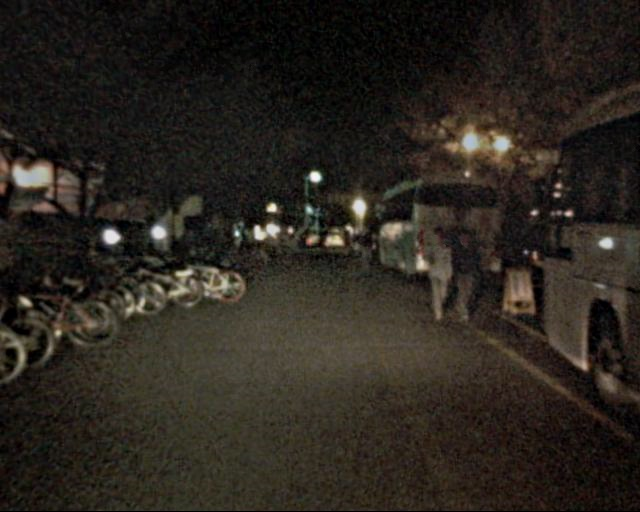person: (443, 226, 481, 318), (419, 231, 456, 321), (353, 226, 375, 280)
